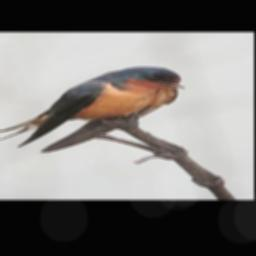Swallow: (0, 65, 187, 152)
